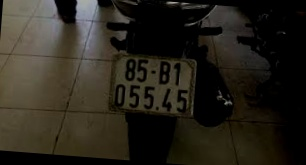Bien-so: (110, 58, 196, 124)
